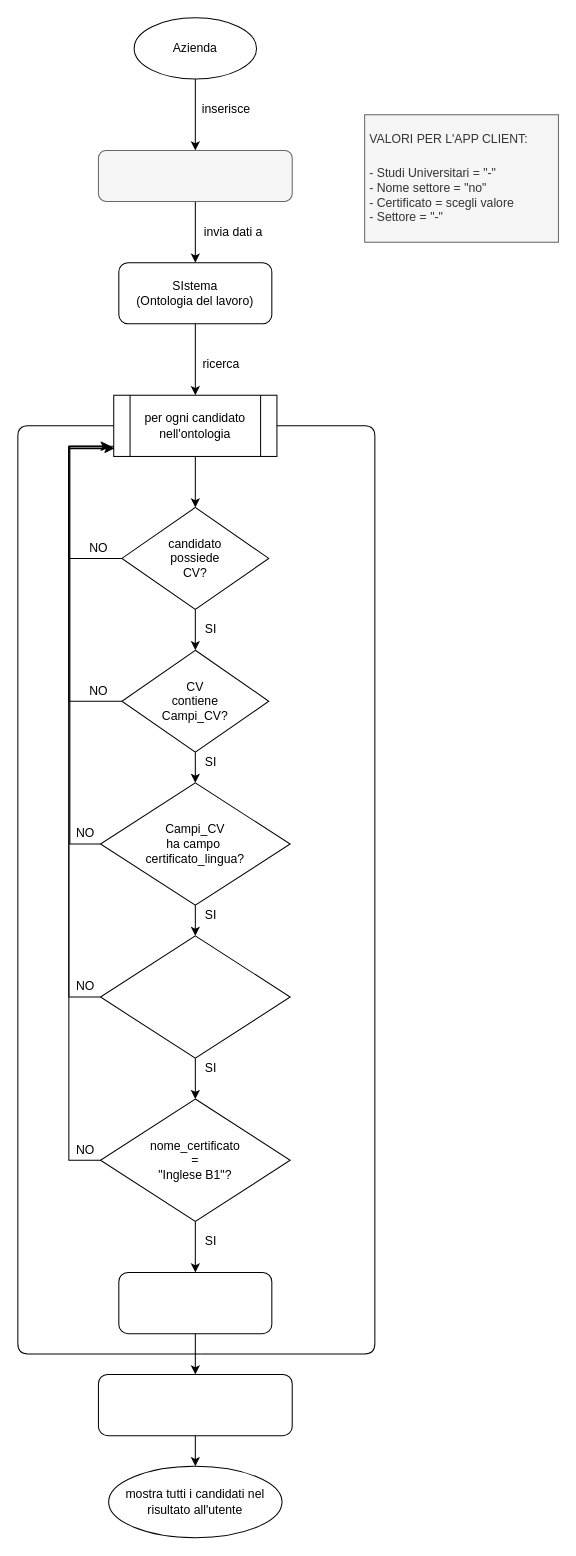
This 576x1556 diagram has some shape labels left out. Here are the shapes that lost their labels. From the top down, the centre of each, then its label:
the point at 194,175: - Certificato lingua: "Inglese B1"
the point at 194,996: certificato_lingua ha nome nome_certificato?
the point at 195,1302: aggiungi candidato e nome_cetificato al risultato
the point at 194,1404: ordina risultato per "Inglese B1"
